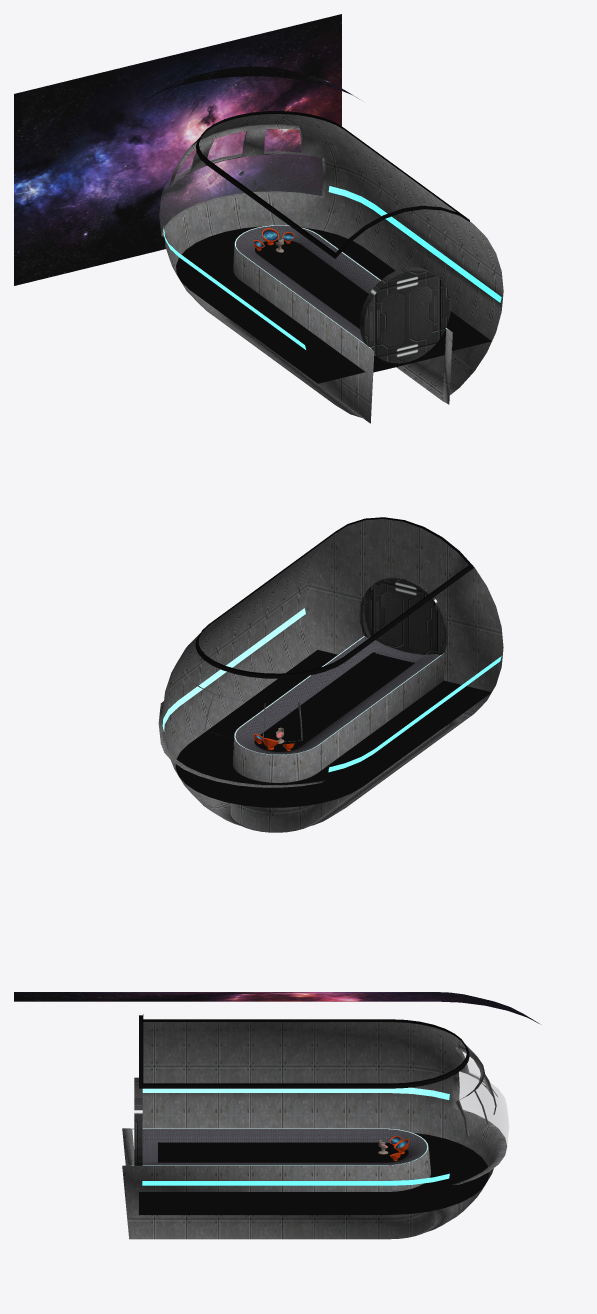
File: nave.glb
3 views of the same model, one above another, from view 1: azimuth 30°, elevation 25°; view 2: azimuth 150°, elevation 25°; view 3: azimuth 270°, elevation 25° (orthographic). The views are drawn at different scales.
Visible parts, largest first — view 1: Sci-Fi Space Station; view 2: Sci-Fi Space Station; view 3: Sci-Fi Space Station.
Part boxes in pixels (left/top/right/bottom): Sci-Fi Space Station: left=14, top=14, right=503, bottom=423; Sci-Fi Space Station: left=158, top=517, right=503, bottom=832; Sci-Fi Space Station: left=14, top=992, right=540, bottom=1239.
Bounding box in the file's own units: 33.37 × 21.69 × 51.23.
14 materials, 6 textured.
